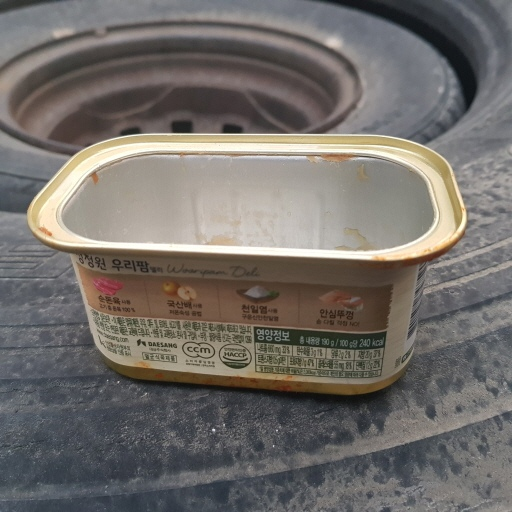Metal_2: (28, 128, 466, 392)
